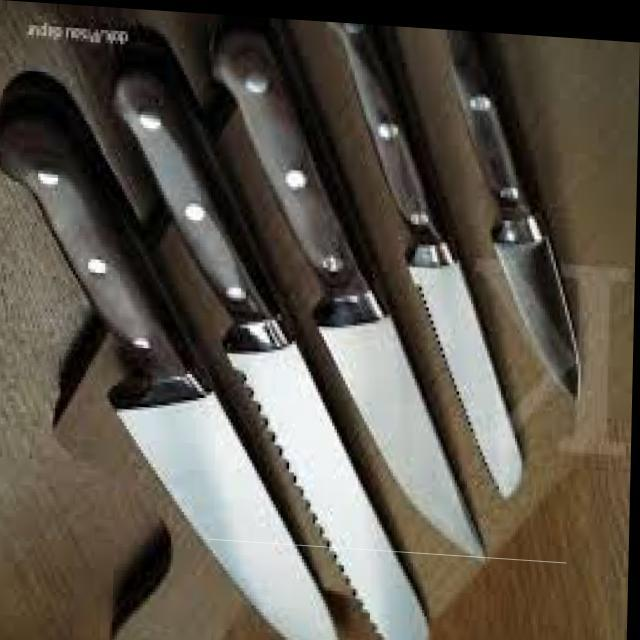knife: (104, 60, 432, 640), (0, 92, 340, 639), (206, 14, 489, 567), (324, 18, 526, 503), (445, 21, 582, 411)
